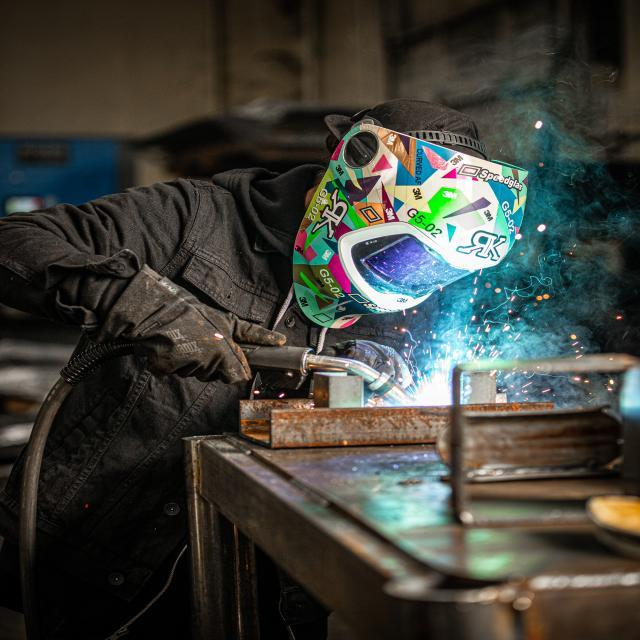with_helmet: (274, 105, 543, 325)
